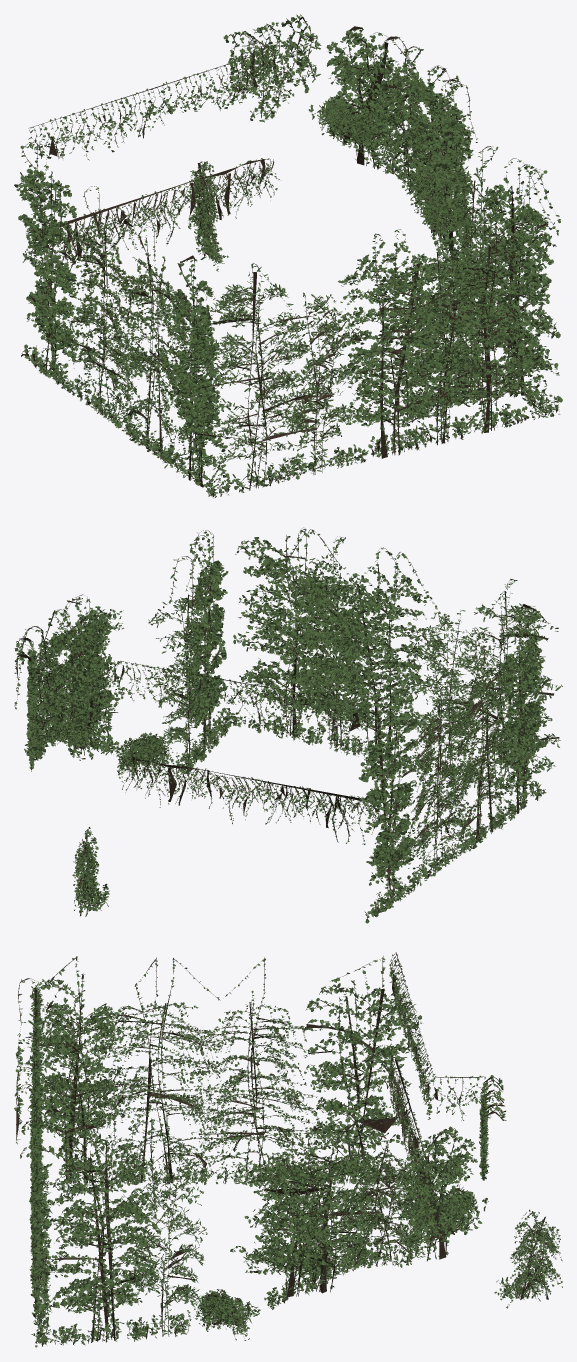
Rendered from garden.glb.
3 renders of one model, top to bottom at view 1: azimuth 30°, elevation 25°; view 2: azimuth 150°, elevation 25°; view 3: azimuth 270°, elevation 25°, orthographic. The views are drawn at different scales.
Visible parts, largest first — view 1: Rooted_Ivy_Leaves(0, -5, 1), Rooted_Ivy_Leaves(1, -5, 1), Rooted_Ivy_Leaves(0, -5, 0), Rooted_Ivy_Leaves(2, -1, 1), Rooted_Ivy_Leaves(1, -5, 0), Rooted_Ivy_Leaves(2, -2, 1), Rooted_Ivy_Leaves(-1, -5, 1), Rooted_Ivy_Leaves(-1, -5, 0), Rooted_Ivy_Leaves(-3, -5, 1), Rooted_Ivy_Leaves(-2, -5, 1), Rooted_Ivy_Leaves('roof-cornice', 0, 0), Rooted_Ivy_Leaves(-3, -2, 1) (+40 smaller); view 2: Rooted_Ivy_Leaves(0, -5, 1), Rooted_Ivy_Leaves(1, -5, 1), Rooted_Ivy_Leaves(0, -5, 0), Rooted_Ivy_Leaves(1, -5, 0), Rooted_Ivy_Leaves(-1, -5, 1), Rooted_Ivy_Leaves('roof-cornice', 0, 0), Rooted_Ivy_Leaves(-3, -5, 1), Rooted_Ivy_Leaves(2, -2, 1), Rooted_Ivy_Leaves(-3, -5, 0), Rooted_Ivy_Leaves(-3, -2, 1), Rooted_Ivy_Leaves(-1, -5, 0), Rooted_Ivy_Leaves(-3, -2, 0) (+39 smaller); view 3: Rooted_Ivy_Leaves(2, -2, 1), Rooted_Ivy_Leaves(2, -1, 1), Rooted_Ivy_Leaves(-3, -5, 1), Rooted_Ivy_Leaves(2, -3, 1), Rooted_Ivy_Leaves(-3, -2, 1), Rooted_Ivy_Leaves(1, -4, 0), Rooted_Ivy_Leaves(1, -4, 1), Rooted_Ivy_Leaves(-3, -5, 0), Rooted_Ivy_Leaves(1, -5, 1), Rooted_Ivy_Leaves(1, -5, 0), Rooted_Ivy_Leaves(-3, -2, 0), Rooted_Ivy_Leaves(-3, -4, 1) (+33 smaller).
Part boxes in pixels (x1,y1,x2,y2): Rooted_Ivy_Leaves(0, -5, 1): (387, 238, 473, 359); Rooted_Ivy_Leaves(1, -5, 1): (470, 187, 552, 340); Rooted_Ivy_Leaves(0, -5, 0): (385, 341, 473, 453); Rooted_Ivy_Leaves(2, -1, 1): (329, 50, 415, 173); Rooted_Ivy_Leaves(1, -5, 0): (465, 297, 555, 433); Rooted_Ivy_Leaves(2, -2, 1): (394, 73, 457, 213); Rooted_Ivy_Leaves(-1, -5, 1): (303, 257, 391, 382); Rooted_Ivy_Leaves(-1, -5, 0): (301, 361, 391, 473); Rooted_Ivy_Leaves(-3, -5, 1): (167, 283, 227, 406); Rooted_Ivy_Leaves(-2, -5, 1): (222, 283, 309, 402); Rooted_Ivy_Leaves('roof-cornice', 0, 0): (25, 31, 282, 185); Rooted_Ivy_Leaves(-3, -2, 1): (23, 172, 79, 297); Rooted_Ivy_Leaves(0, -5, 1): (306, 562, 387, 670); Rooted_Ivy_Leaves(1, -5, 1): (198, 545, 310, 664); Rooted_Ivy_Leaves(0, -5, 0): (303, 655, 385, 756); Rooted_Ivy_Leaves(1, -5, 0): (199, 635, 310, 752); Rooted_Ivy_Leaves(-1, -5, 1): (381, 579, 460, 690); Rooted_Ivy_Leaves('roof-cornice', 0, 0): (86, 661, 384, 756); Rooted_Ivy_Leaves(-3, -5, 1): (497, 618, 562, 738); Rooted_Ivy_Leaves(2, -2, 1): (21, 628, 90, 747); Rooted_Ivy_Leaves(-3, -5, 0): (497, 708, 560, 824); Rooted_Ivy_Leaves(-3, -2, 1): (367, 714, 416, 828); Rooted_Ivy_Leaves(-1, -5, 0): (381, 673, 458, 778); Rooted_Ivy_Leaves(-3, -2, 0): (367, 806, 415, 916); Rooted_Ivy_Leaves(2, -2, 1): (306, 1163, 400, 1266); Rooted_Ivy_Leaves(2, -1, 1): (399, 1151, 487, 1267); Rooted_Ivy_Leaves(-3, -5, 1): (28, 986, 122, 1093); Rooted_Ivy_Leaves(2, -3, 1): (230, 1161, 308, 1265); Rooted_Ivy_Leaves(-3, -2, 1): (307, 988, 401, 1092); Rooted_Ivy_Leaves(1, -4, 0): (121, 1243, 214, 1341); Rooted_Ivy_Leaves(1, -4, 1): (120, 1144, 208, 1247); Rooted_Ivy_Leaves(-3, -5, 0): (29, 1089, 122, 1184); Rooted_Ivy_Leaves(1, -5, 1): (29, 1112, 123, 1249); Rooted_Ivy_Leaves(1, -5, 0): (30, 1217, 122, 1345); Rooted_Ivy_Leaves(-3, -2, 0): (306, 1088, 400, 1184); Rooted_Ivy_Leaves(-3, -4, 1): (121, 984, 214, 1092).
Bounding box in the file's own units: 12.53 × 7.16 × 14.81.
Materials: 5 (4 with a texture image).
